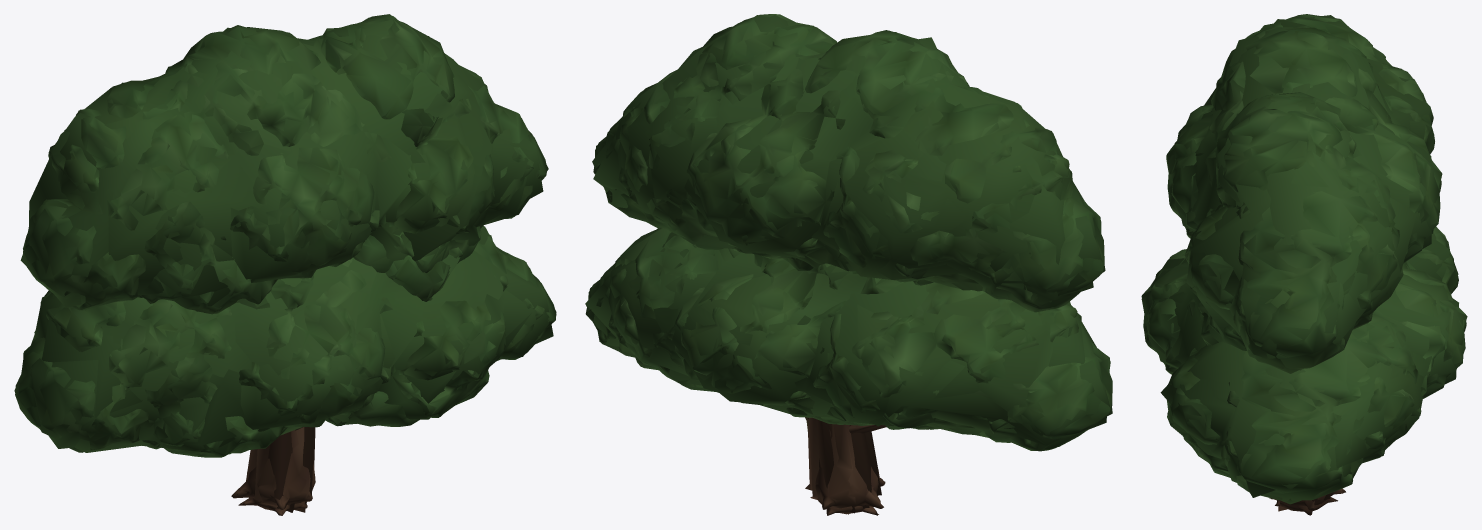
Rendered from arboles.glb.
3 renders of one model, left to right at view 1: azimuth 30°, elevation 25°; view 2: azimuth 150°, elevation 25°; view 3: azimuth 270°, elevation 25°, orthographic. The views are drawn at different scales.
Parts seen in each view (by area): view 1: irregular_15m_L0, irregular_15m_L1, irregular_15m_L2, frondoso_10m_L0, frondoso_10m_L2, frondoso_10m_L1, irregular_15m_L3, frondoso_10m_L3; view 2: irregular_15m_L0, irregular_15m_L1, irregular_15m_L2, frondoso_10m_L0, frondoso_10m_L2, frondoso_10m_L1, irregular_15m_L3, frondoso_10m_L3; view 3: irregular_15m_L0, irregular_15m_L1, frondoso_10m_L0, irregular_15m_L2, frondoso_10m_L1, irregular_15m_L3, frondoso_10m_L2, frondoso_10m_L3.
Boxes of the visible parts, left/top/right/bottom form: irregular_15m_L0: left=23, top=14, right=547, bottom=510; irregular_15m_L1: left=23, top=14, right=547, bottom=509; irregular_15m_L2: left=20, top=19, right=548, bottom=502; frondoso_10m_L0: left=15, top=226, right=556, bottom=515; frondoso_10m_L2: left=30, top=229, right=549, bottom=511; frondoso_10m_L1: left=14, top=226, right=556, bottom=515; irregular_15m_L3: left=29, top=25, right=543, bottom=512; frondoso_10m_L3: left=41, top=250, right=553, bottom=512; irregular_15m_L0: left=593, top=14, right=1104, bottom=509; irregular_15m_L1: left=593, top=14, right=1104, bottom=509; irregular_15m_L2: left=592, top=15, right=1105, bottom=514; frondoso_10m_L0: left=586, top=227, right=1112, bottom=515; frondoso_10m_L2: left=585, top=228, right=1112, bottom=508; frondoso_10m_L1: left=585, top=228, right=1112, bottom=515; irregular_15m_L3: left=593, top=15, right=1093, bottom=496; frondoso_10m_L3: left=585, top=232, right=1106, bottom=513; irregular_15m_L0: left=1166, top=14, right=1441, bottom=508; irregular_15m_L1: left=1166, top=14, right=1442, bottom=508; frondoso_10m_L0: left=1142, top=227, right=1466, bottom=514; irregular_15m_L2: left=1169, top=15, right=1431, bottom=504; frondoso_10m_L1: left=1141, top=227, right=1467, bottom=515; irregular_15m_L3: left=1171, top=19, right=1433, bottom=511; frondoso_10m_L2: left=1141, top=232, right=1458, bottom=511; frondoso_10m_L3: left=1146, top=239, right=1458, bottom=510.
Bounding box in the file's own units: 16.68 × 15.14 × 9.69.
